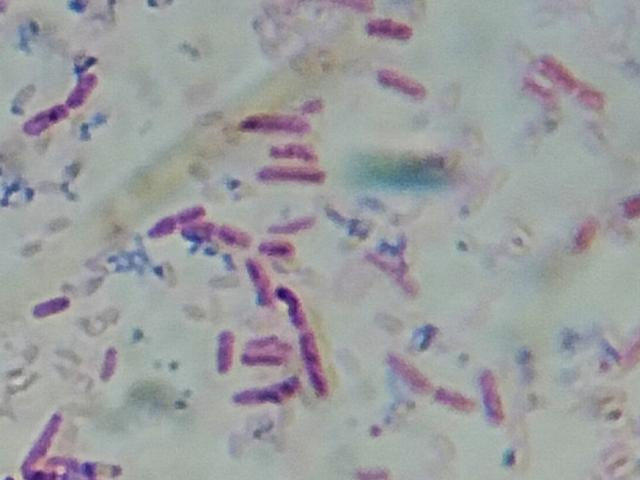E. coli: (276, 279, 339, 390), (538, 48, 600, 96), (379, 62, 441, 104), (236, 103, 312, 136), (231, 375, 299, 408), (23, 453, 115, 477), (22, 99, 71, 142), (255, 159, 327, 187), (479, 366, 511, 426), (265, 133, 329, 163), (266, 209, 330, 238), (23, 409, 68, 450), (158, 198, 210, 232), (568, 213, 604, 258), (203, 320, 236, 369), (243, 253, 273, 306), (246, 330, 286, 367), (64, 67, 100, 107), (391, 347, 426, 386), (516, 72, 550, 112), (362, 15, 414, 41), (33, 293, 75, 323), (611, 187, 640, 227), (258, 235, 299, 261), (219, 222, 251, 251), (436, 383, 471, 409), (96, 341, 116, 381), (185, 222, 219, 241)
